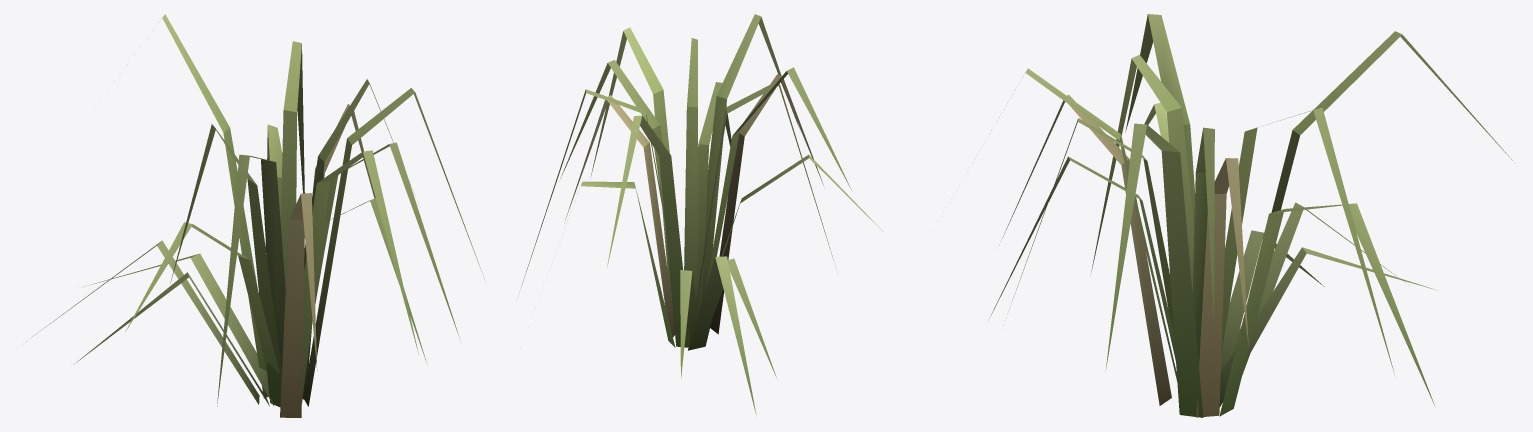
Rendered from deco-beachgrass.glb.
The picture shows the model from 3 angles, left to right: view 1: azimuth 30°, elevation 25°; view 2: azimuth 150°, elevation 25°; view 3: azimuth 270°, elevation 25°; orthographic projection. The views are drawn at different scales.
Parts seen in each view (by area): view 1: 0_beachgrass; view 2: 0_beachgrass; view 3: 0_beachgrass.
Boxes of the visible parts, x1,y1,x2,y2 form: 0_beachgrass: (26, 14, 484, 417); 0_beachgrass: (521, 14, 883, 414); 0_beachgrass: (989, 14, 1512, 417).
Size of the model in its own units: 0.7131 by 0.6348 by 0.9647.
